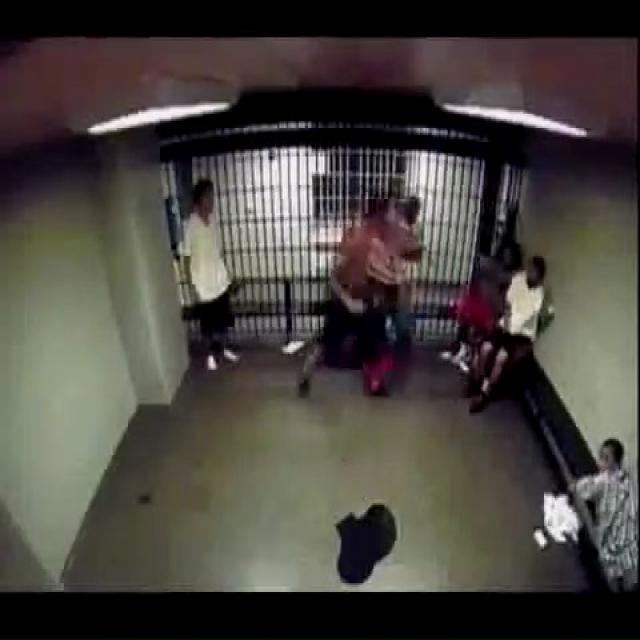fight: (293, 188, 431, 404)
